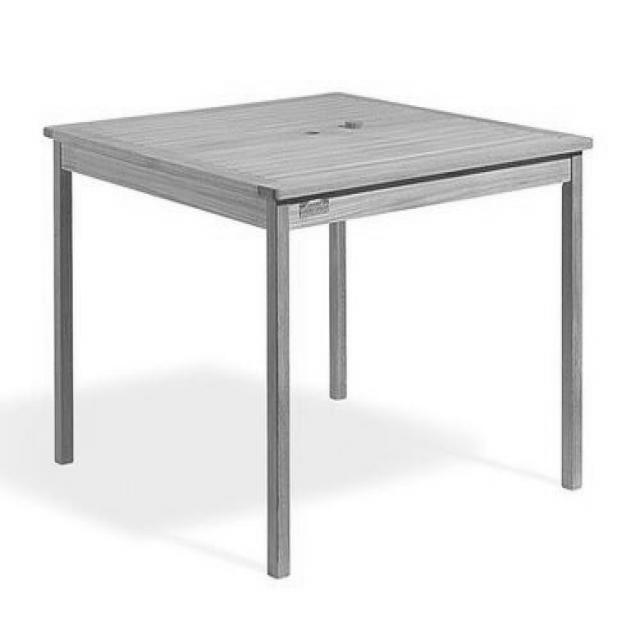table: (43, 92, 596, 578)
